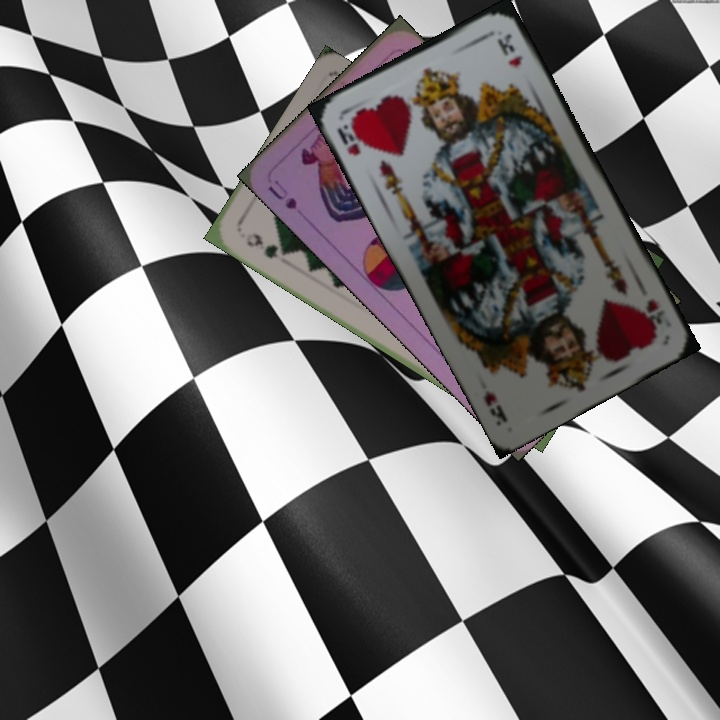G9: (241, 228, 281, 261)
HK: (332, 113, 368, 159), (639, 295, 668, 340)
SU: (264, 175, 300, 212)
